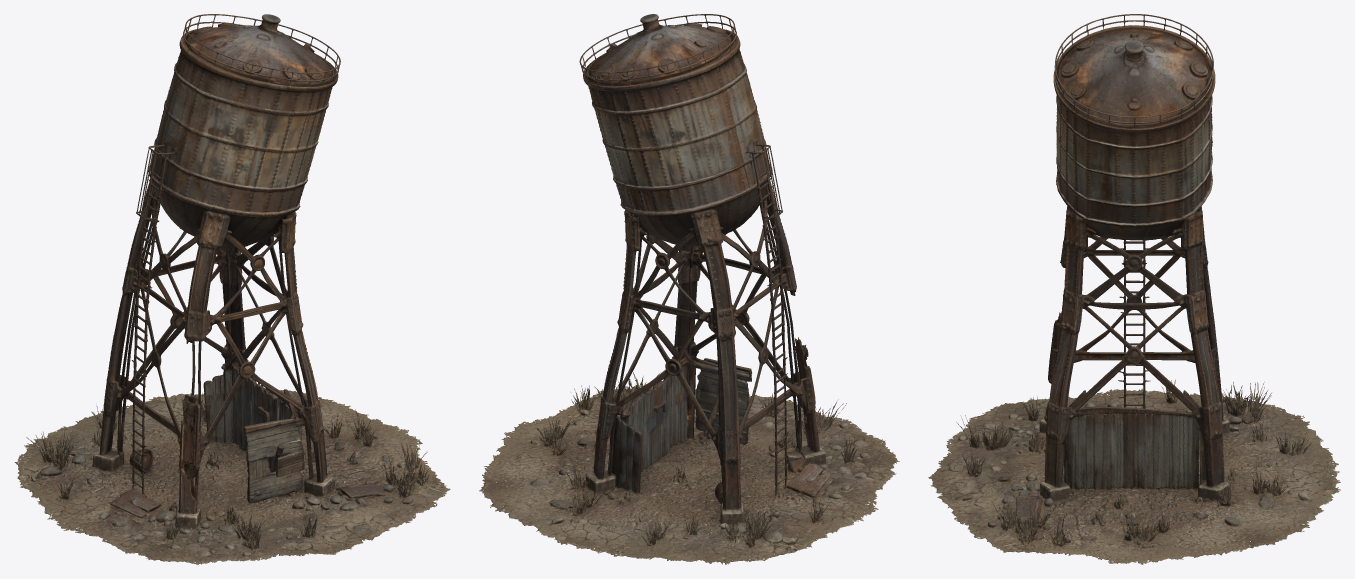
The model's file is wt_lean.glb.
3 views of the same model, side by side, from view 1: azimuth 30°, elevation 25°; view 2: azimuth 150°, elevation 25°; view 3: azimuth 270°, elevation 25° (orthographic).
Parts seen in each view (by area): view 1: wt_lean; view 2: wt_lean; view 3: wt_lean.
Part boxes in pixels (x1=…): wt_lean: x1=14, y1=14, x2=450, y2=564; wt_lean: x1=479, y1=14, x2=899, y2=564; wt_lean: x1=928, y1=14, x2=1340, y2=564.
Size of the model in its own units: 159 by 190 by 156.
Materials: 1 (1 with a texture image).
